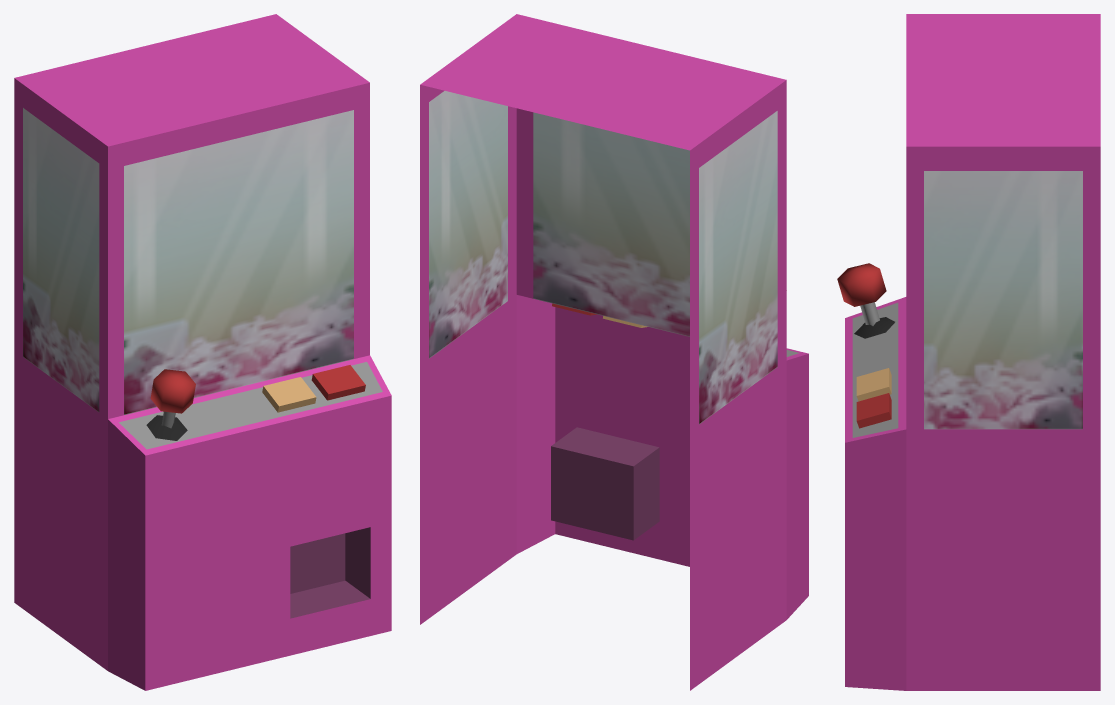
The model's file is interior_G_002.fbx.
3 views of the same model, side by side, from view 1: azimuth 30°, elevation 25°; view 2: azimuth 150°, elevation 25°; view 3: azimuth 270°, elevation 25° (orthographic). The views are drawn at different scales.
Parts seen in each view (by area): view 1: interior_G_002; view 2: interior_G_002; view 3: interior_G_002.
Part boxes in pixels (bbox=[...]): interior_G_002: bbox=[14, 14, 391, 690]; interior_G_002: bbox=[420, 14, 808, 690]; interior_G_002: bbox=[837, 14, 1100, 690].
Size of the model in its own units: 75.1 by 144 by 63.04.
Materials: 7 (1 with a texture image).
